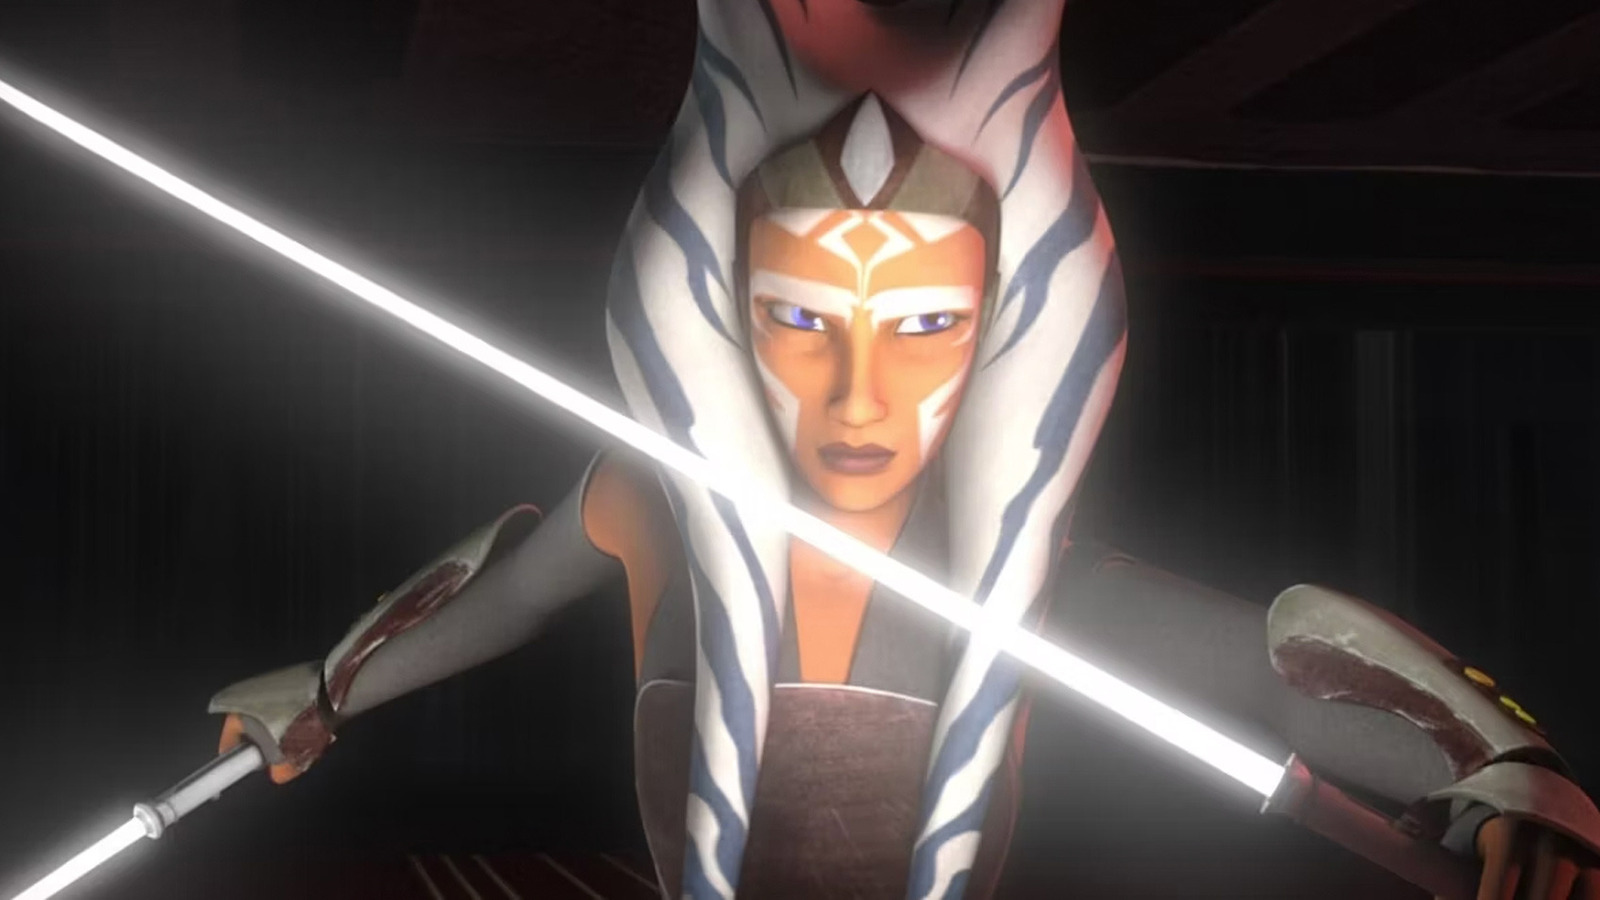lightsaber: (0, 68, 1382, 900), (0, 744, 340, 867)
